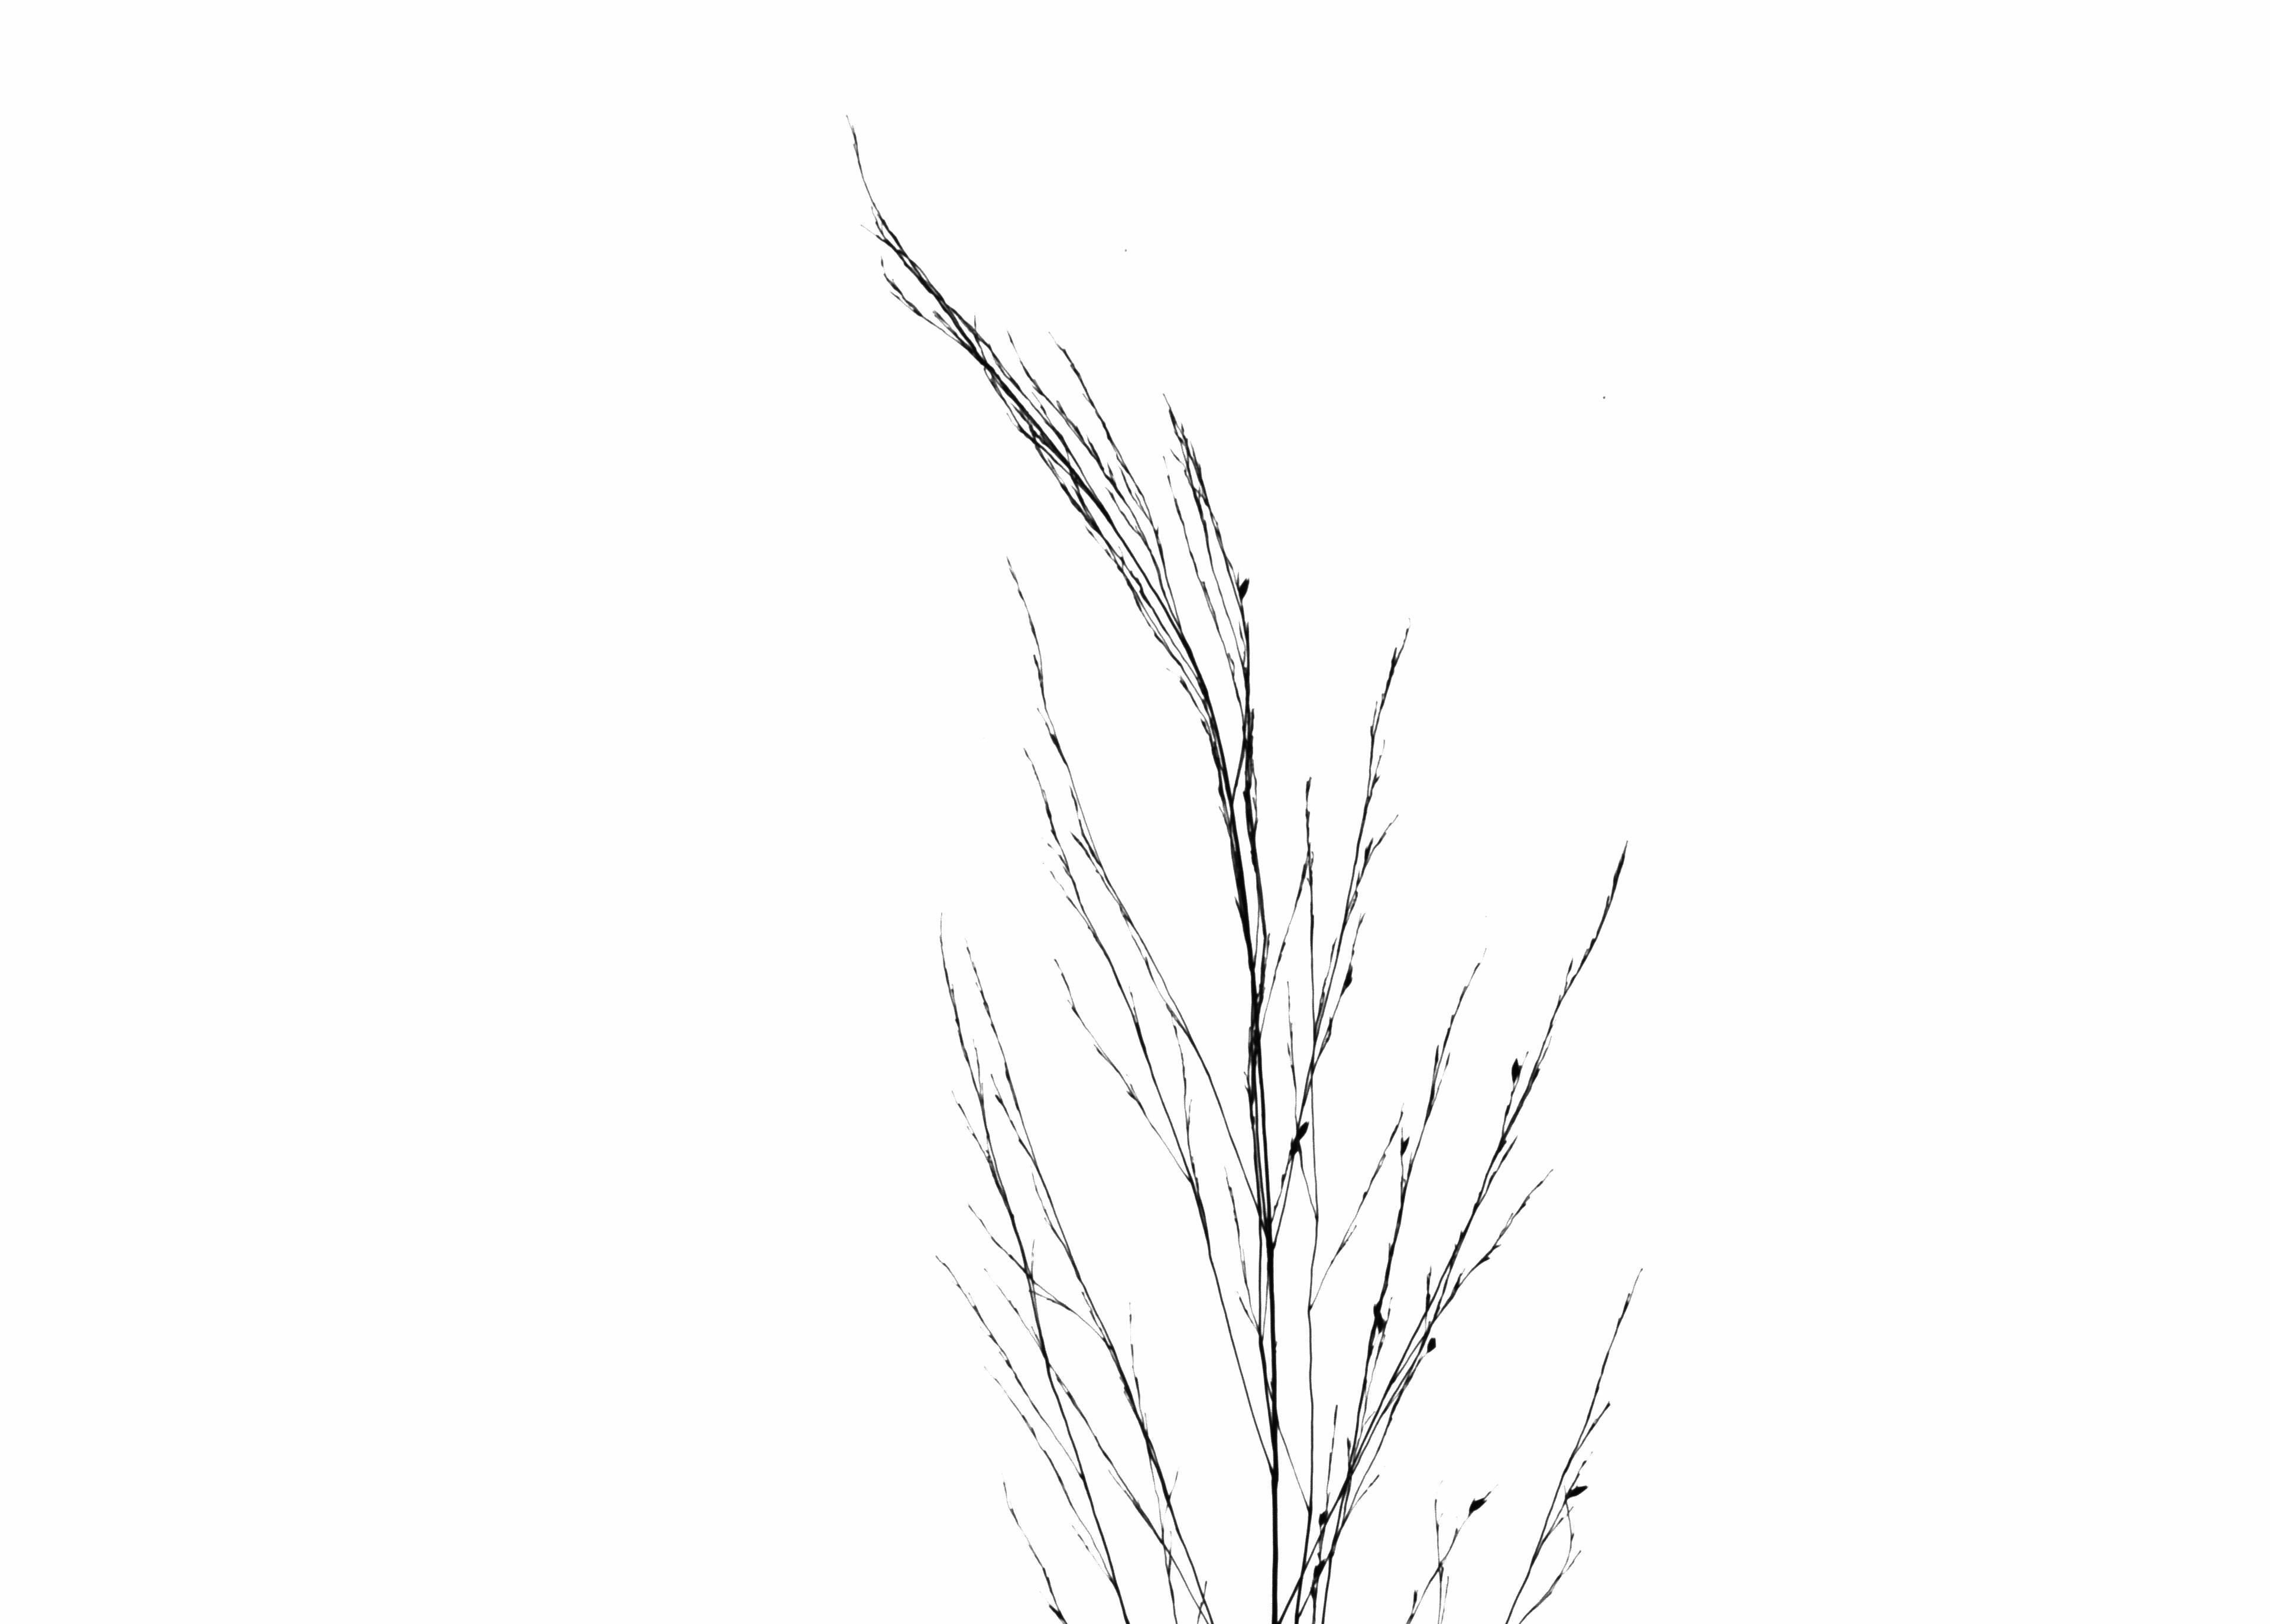seed: (1287, 1111, 1313, 1160), (1234, 569, 1255, 610), (1507, 1051, 1528, 1088), (1465, 1490, 1489, 1517), (1563, 1478, 1591, 1501), (1315, 1504, 1335, 1531), (1424, 1329, 1440, 1359), (1398, 1128, 1414, 1158)
